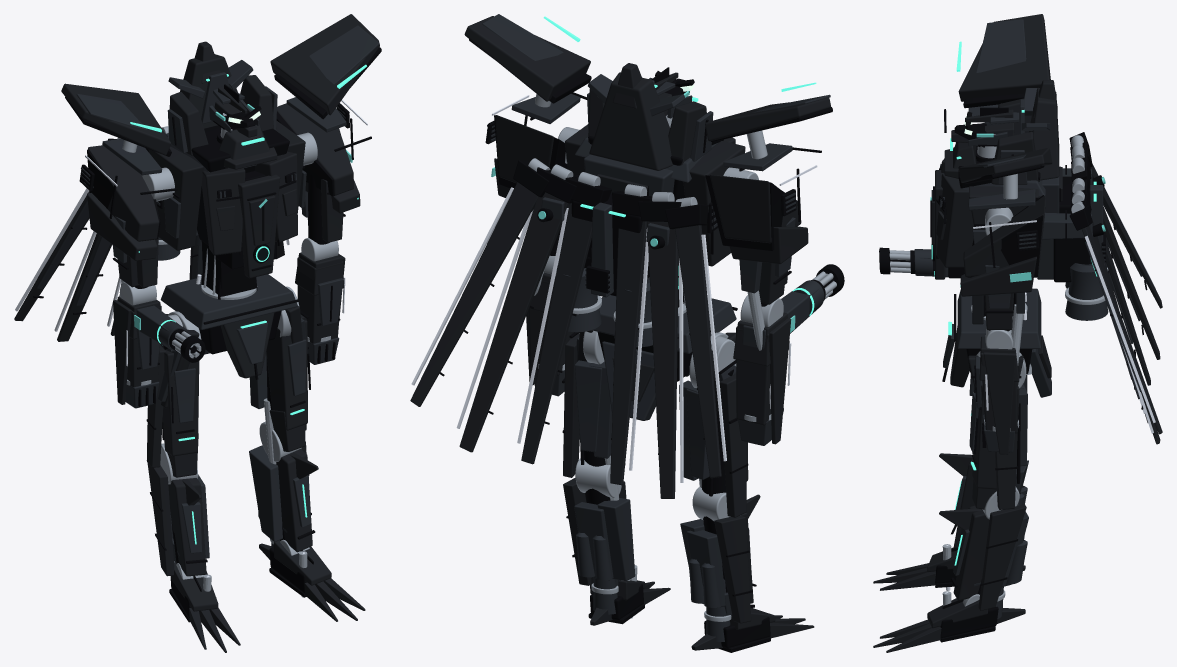
The model's file is mech_laeufer.glb.
3 views of the same model, side by side, from view 1: azimuth 30°, elevation 25°; view 2: azimuth 150°, elevation 25°; view 3: azimuth 270°, elevation 25° (orthographic). The views are drawn at different scales.
Parts seen in each view (by area): view 1: Torso_body, Shoulder_R_body, Shoulder_L_body, Pelvis_plate, Torso_under, Knee_R_body, Hip_R_body, Hip_L_body, Torso_plate, Hatch_body, Shoulder_L_plate, Knee_L_plate (+31 smaller); view 2: Torso_body, Shoulder_R_body, Shoulder_L_body, Wing2_R_body, Wing2_L_body, Wing1_R_body, Wing1_L_body, Wing3_R_body, Wing3_L_body, Forearm_R_body, Knee_L_plate, Torso_plate (+45 smaller); view 3: Torso_body, Shoulder_L_body, Knee_L_body, Shoulder_R_body, Forearm_L_body, Pelvis_plate, Hip_L_body, Torso_plate, Foot_L_body, Shoulder_R_plate, Shoulder_L_under, Backpack_under (+33 smaller).
Part boxes in pixels (x1,y1,x2,y2): Torso_body: (148, 41, 305, 255); Shoulder_R_body: (61, 83, 171, 260); Shoulder_L_body: (270, 14, 379, 213); Pelvis_plate: (158, 274, 306, 401); Torso_under: (157, 116, 304, 299); Knee_R_body: (147, 462, 206, 576); Hip_R_body: (146, 345, 199, 477); Hip_L_body: (266, 314, 307, 451); Torso_plate: (156, 60, 306, 238); Hatch_body: (238, 174, 280, 278); Shoulder_L_plate: (286, 25, 379, 132); Knee_L_plate: (249, 445, 310, 542); Torso_body: (565, 63, 745, 266); Shoulder_R_body: (705, 97, 830, 264); Shoulder_L_body: (464, 16, 590, 197); Wing2_R_body: (647, 221, 678, 498); Wing2_L_body: (459, 192, 569, 452); Wing1_R_body: (610, 221, 647, 485); Wing1_L_body: (521, 203, 592, 464); Wing3_R_body: (675, 225, 721, 478); Wing3_L_body: (410, 182, 538, 406); Forearm_R_body: (733, 312, 791, 444); Knee_L_plate: (574, 497, 635, 585); Torso_plate: (575, 74, 723, 229); Torso_body: (936, 80, 1062, 267); Shoulder_L_body: (958, 147, 1052, 296); Knee_L_body: (939, 504, 1026, 610); Shoulder_R_body: (958, 14, 1050, 101); Forearm_L_body: (979, 336, 1019, 454); Pelvis_plate: (943, 288, 1051, 422); Hip_L_body: (972, 385, 1019, 509); Torso_plate: (939, 88, 1059, 279); Foot_L_body: (873, 598, 1025, 652); Shoulder_R_plate: (968, 19, 1026, 116); Shoulder_L_under: (944, 165, 1044, 277); Backpack_under: (1053, 176, 1105, 282).
Bounding box in the file's own units: 4.13 × 6.99 × 3.43.
